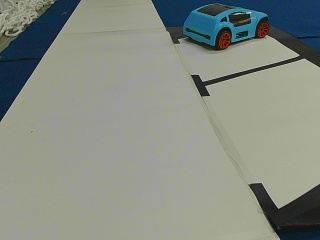car: (182, 4, 267, 49)
